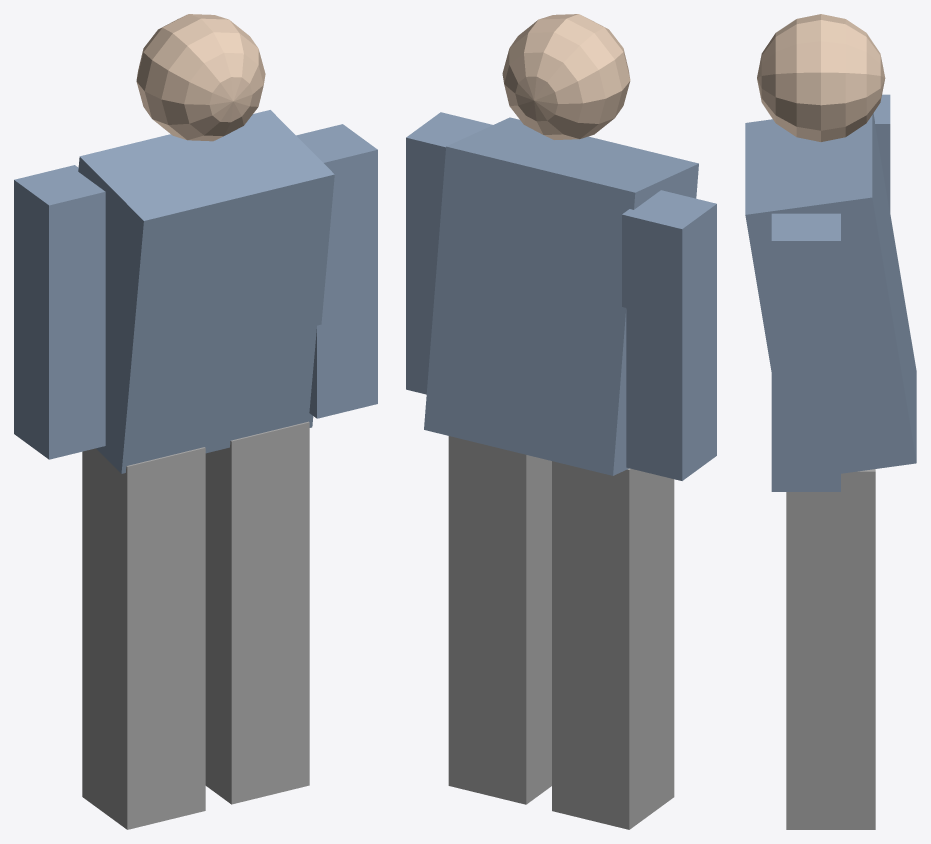
Rendered from slip_recover.glb.
The picture shows the model from 3 angles, left to right: view 1: azimuth 30°, elevation 25°; view 2: azimuth 150°, elevation 25°; view 3: azimuth 270°, elevation 25°; orthographic projection.
Visible parts, largest first — view 1: torso, leg_l, leg_r, arm_l, arm_r, head; view 2: torso, leg_l, leg_r, arm_l, head, arm_r; view 3: leg_r, torso, arm_r, head, arm_l.
Part boxes in pixels (<box>): torso: <box>78,110,334,473</box>; leg_l: <box>82,447,205,829</box>; leg_r: <box>205,421,309,804</box>; arm_l: <box>14,165,105,459</box>; arm_r: <box>296,124,377,418</box>; head: <box>136,14,265,141</box>; torso: <box>424,117,698,475</box>; leg_l: <box>552,461,674,829</box>; leg_r: <box>448,436,551,804</box>; arm_l: <box>622,190,716,480</box>; head: <box>502,14,630,139</box>; arm_r: <box>406,112,492,394</box>; leg_r: <box>786,469,875,829</box>; torso: <box>745,113,916,473</box>; arm_r: <box>771,213,840,491</box>; head: <box>757,14,885,141</box>; arm_l: <box>873,94,890,214</box>.
Bounding box in the file's own units: 0.7001 × 1.71 × 0.3465.
